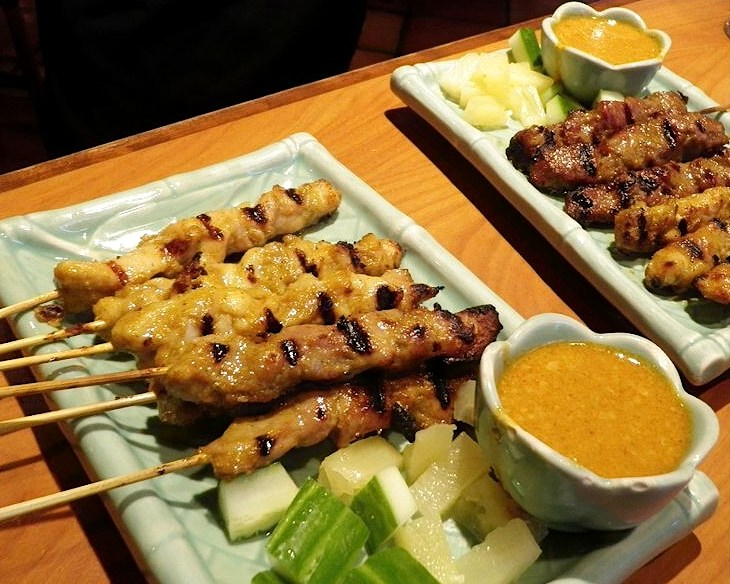Sate Ayam: (47, 48, 683, 493)
